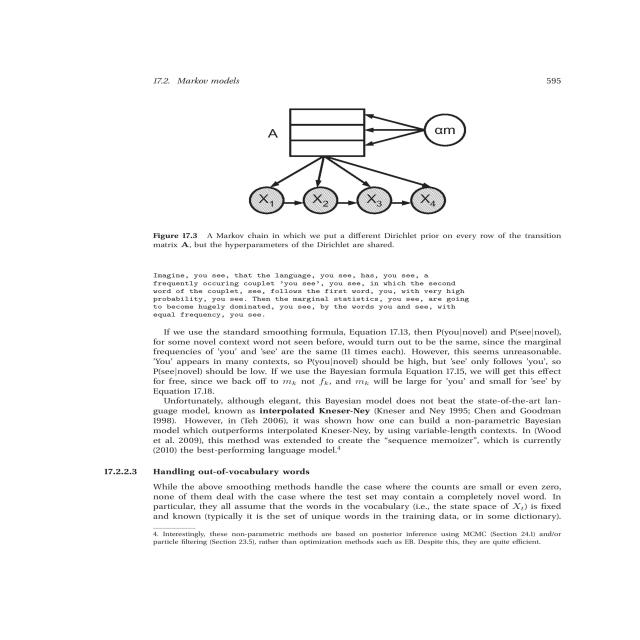diagram: (153, 91, 561, 252)
